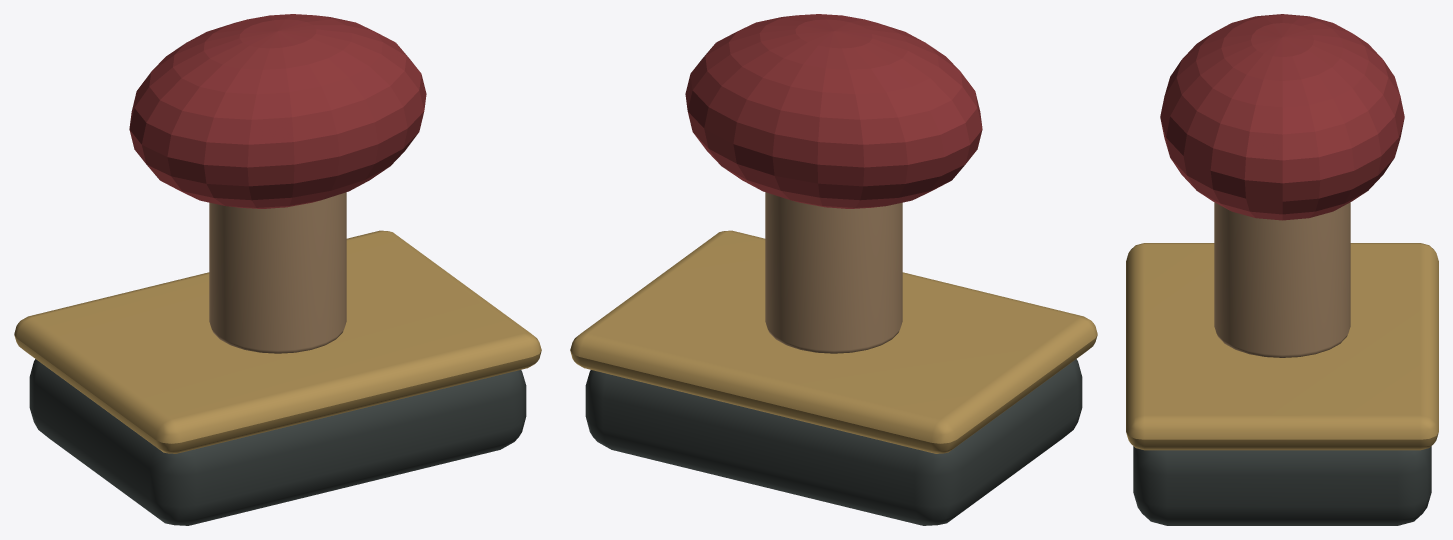
File: Tool_large_prize_stamp.fbx
3 renders of one model, left to right at view 1: azimuth 30°, elevation 25°; view 2: azimuth 150°, elevation 25°; view 3: azimuth 270°, elevation 25°, orthographic.
Visible parts, largest first — view 1: Prize_Stamp_Brass_Skirt, Prize_Stamp_Grip, Prize_Stamp_Foot, Prize_Stamp_Handle; view 2: Prize_Stamp_Brass_Skirt, Prize_Stamp_Grip, Prize_Stamp_Foot, Prize_Stamp_Handle; view 3: Prize_Stamp_Brass_Skirt, Prize_Stamp_Grip, Prize_Stamp_Foot, Prize_Stamp_Handle.
Part boxes in pixels (bbox=[...]): Prize_Stamp_Brass_Skirt: bbox=[14, 230, 541, 453]; Prize_Stamp_Grip: bbox=[129, 14, 426, 208]; Prize_Stamp_Foot: bbox=[29, 359, 526, 525]; Prize_Stamp_Handle: bbox=[209, 192, 346, 353]; Prize_Stamp_Brass_Skirt: bbox=[570, 230, 1097, 453]; Prize_Stamp_Grip: bbox=[685, 14, 982, 208]; Prize_Stamp_Foot: bbox=[585, 359, 1082, 525]; Prize_Stamp_Handle: bbox=[765, 192, 902, 353]; Prize_Stamp_Brass_Skirt: bbox=[1126, 243, 1438, 450]; Prize_Stamp_Grip: bbox=[1160, 14, 1404, 220]; Prize_Stamp_Foot: bbox=[1133, 446, 1431, 525]; Prize_Stamp_Handle: bbox=[1214, 202, 1350, 357].
Bounding box in the file's own units: 0.155 × 0.159 × 0.11.
